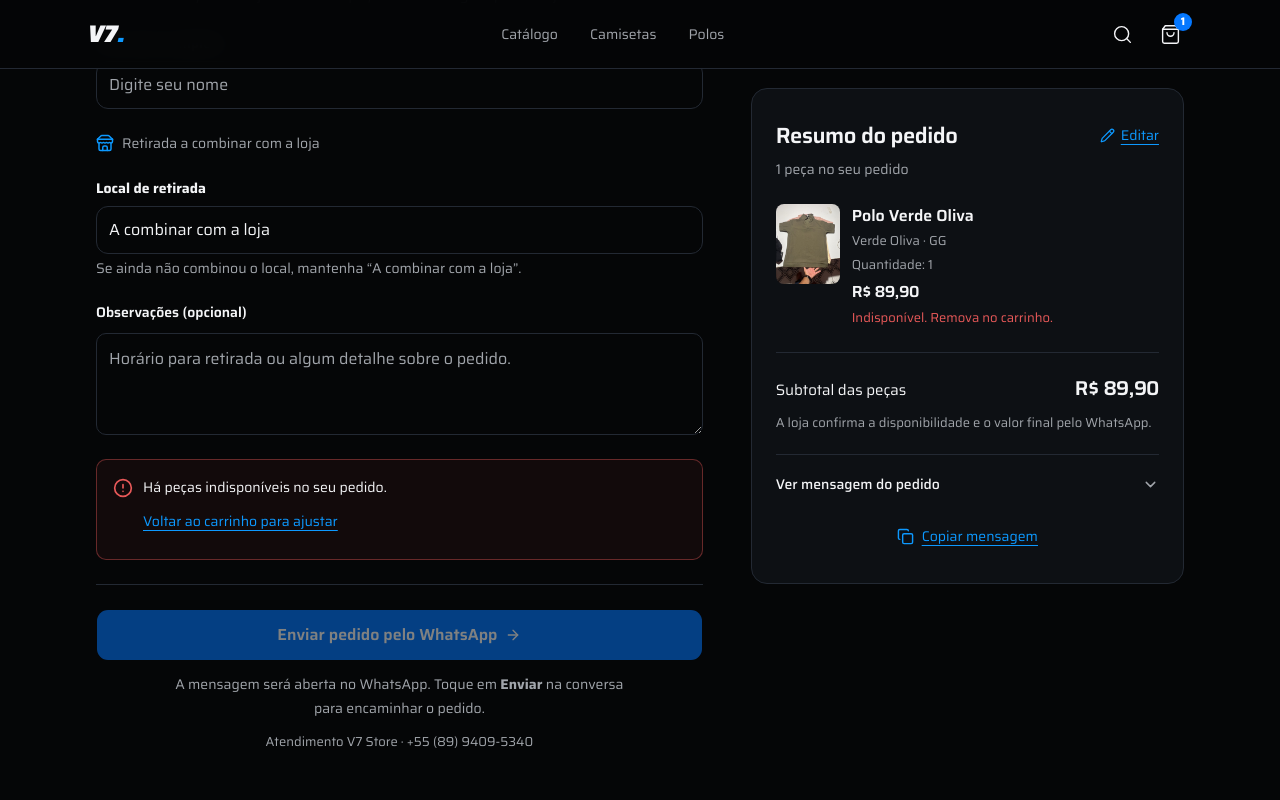
Test: jornada de compra › bloqueia o envio de peças indisponíveis ao acessar a finalização diretamente
(page scrolled)
Expected: the button "Enviar pedido pelo WhatsApp" is disabled, [96, 609, 703, 661]
What coordinates should you click on to do the following:
click the link "Voltar ao carrinho para ajustar"
I would click on:
 (240, 521)
Its box is [143, 510, 338, 532].
(page scrolled)
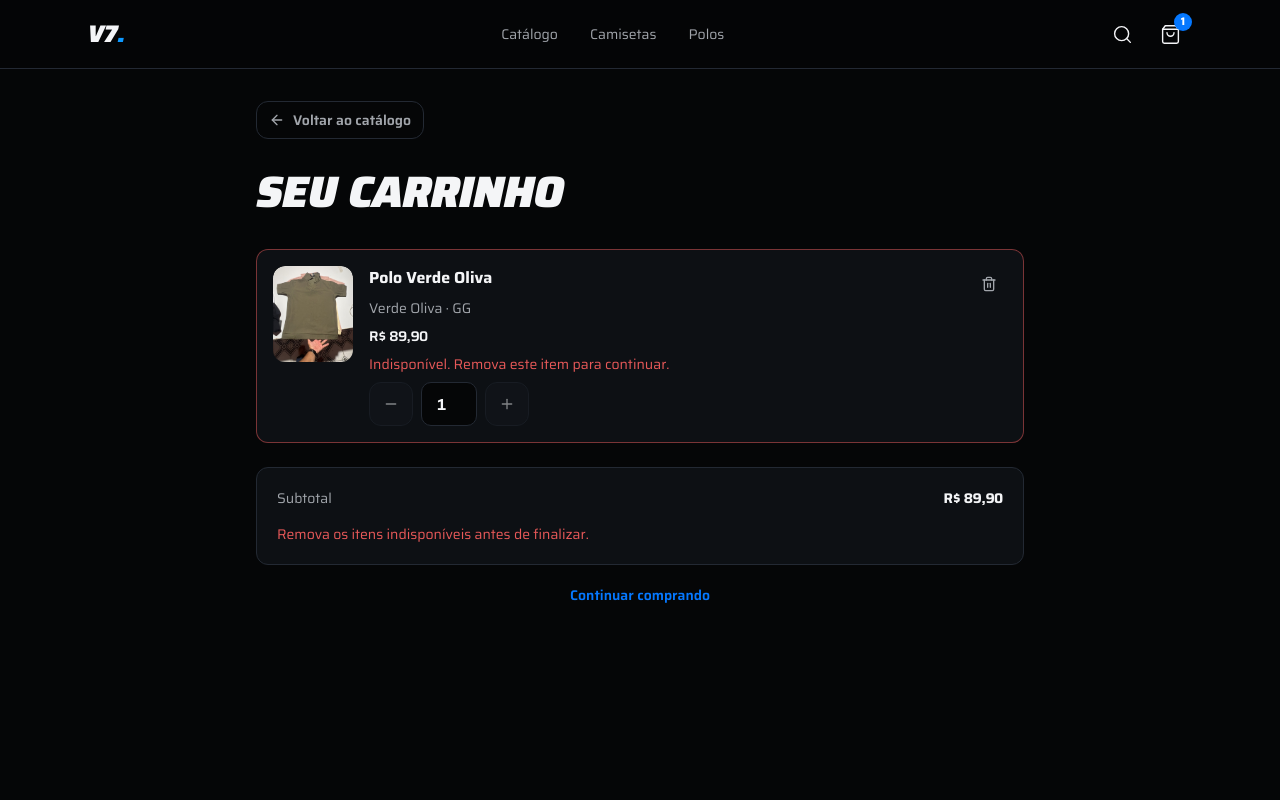
Expected: the heading "Seu carrinho" is shown, [256, 157, 564, 226]
